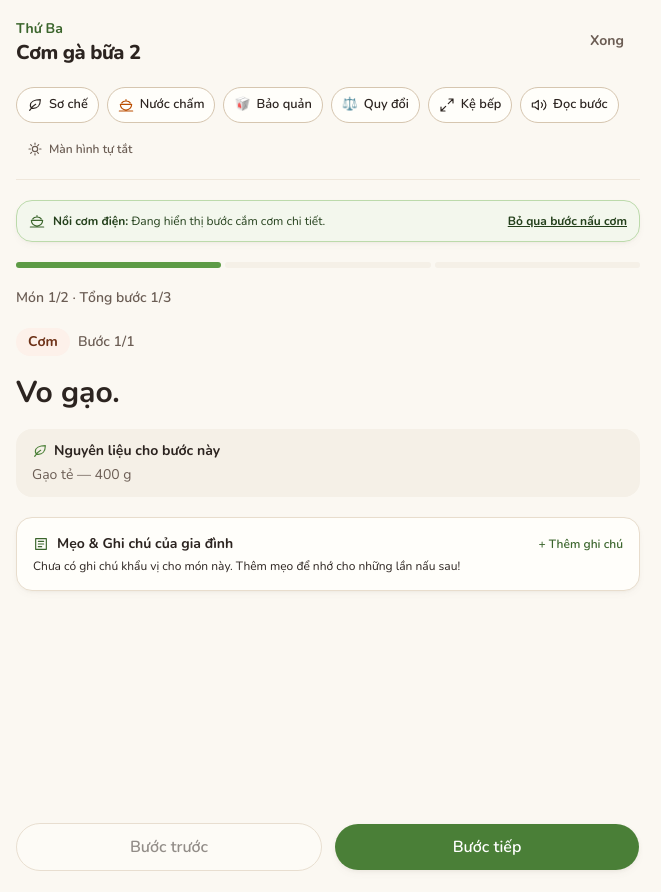
Test case: CookingPage › still lets the cook leave without answering
Click the button "Bước tiếp" at x=487, y=847, box [334,823,640,871]
(page scrolled)
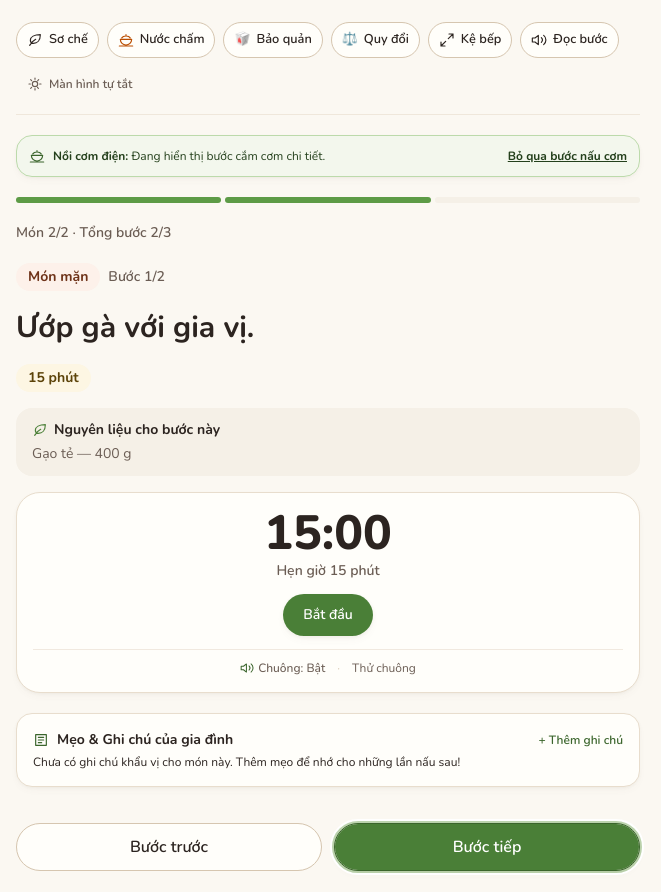
Click the button "Bước tiếp" at x=487, y=847, box [334,823,640,871]
(page scrolled)
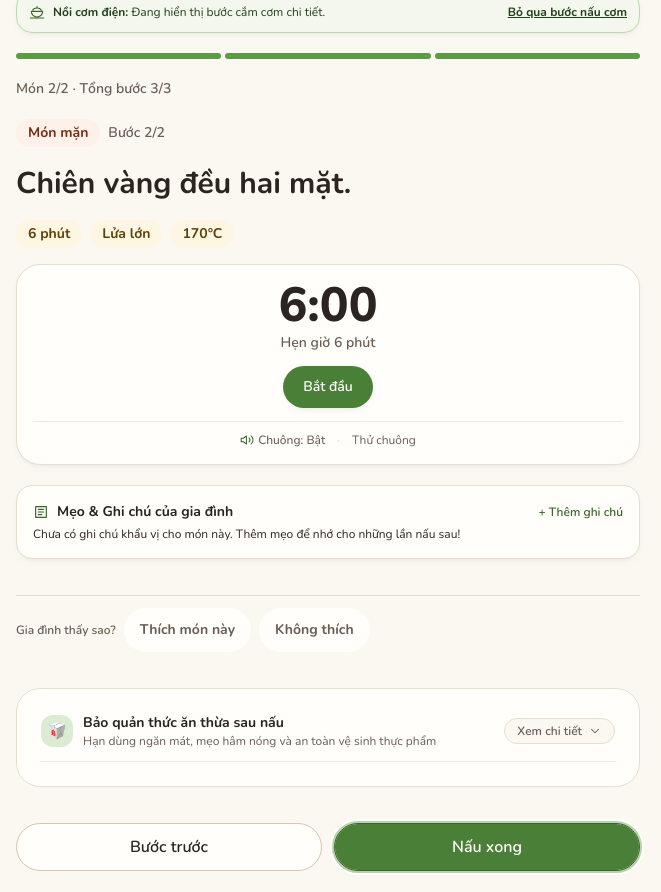
Expected: the button "Nấu xong" is shown, [334,823,640,871]
